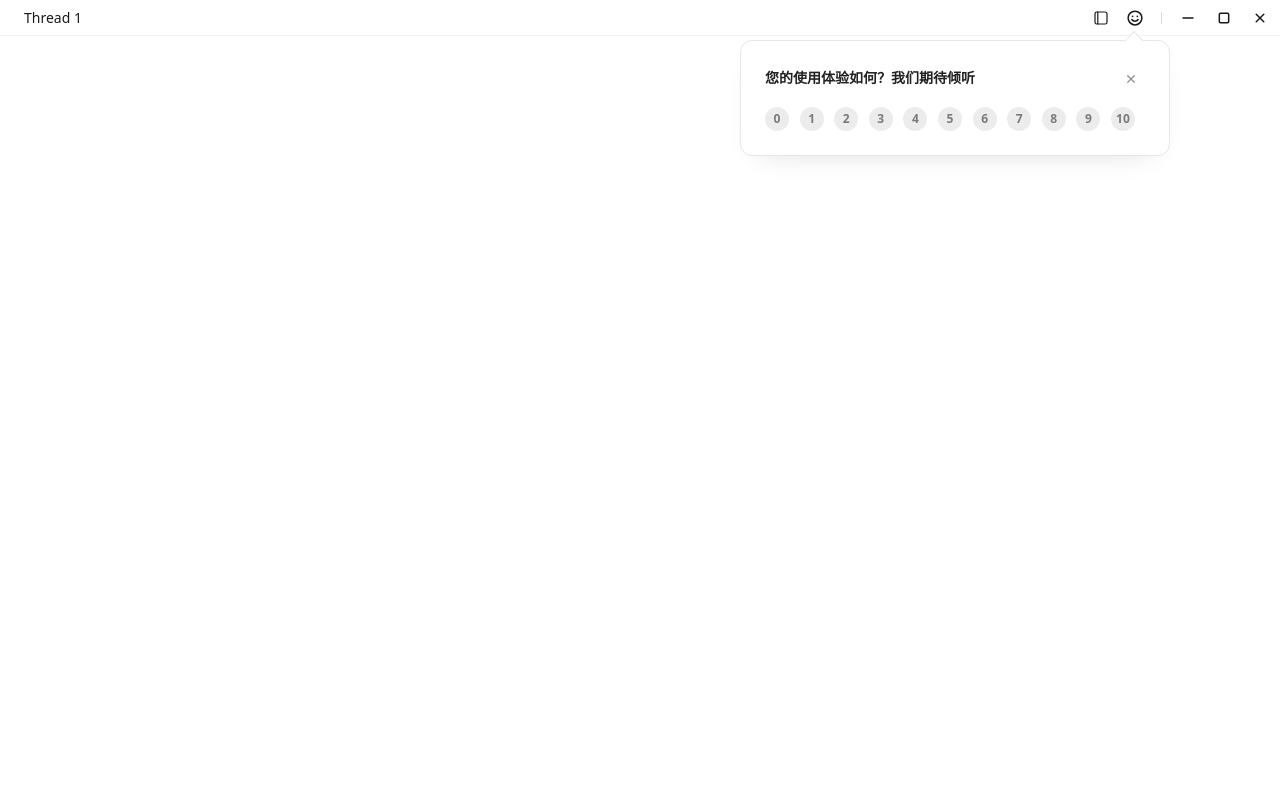
Scenario: RightContentHeader feedback popover › preserves selected score and typed feedback across route remounts
Click the button "6". click: coordinates (985, 118)
box: [973,106,997,130]
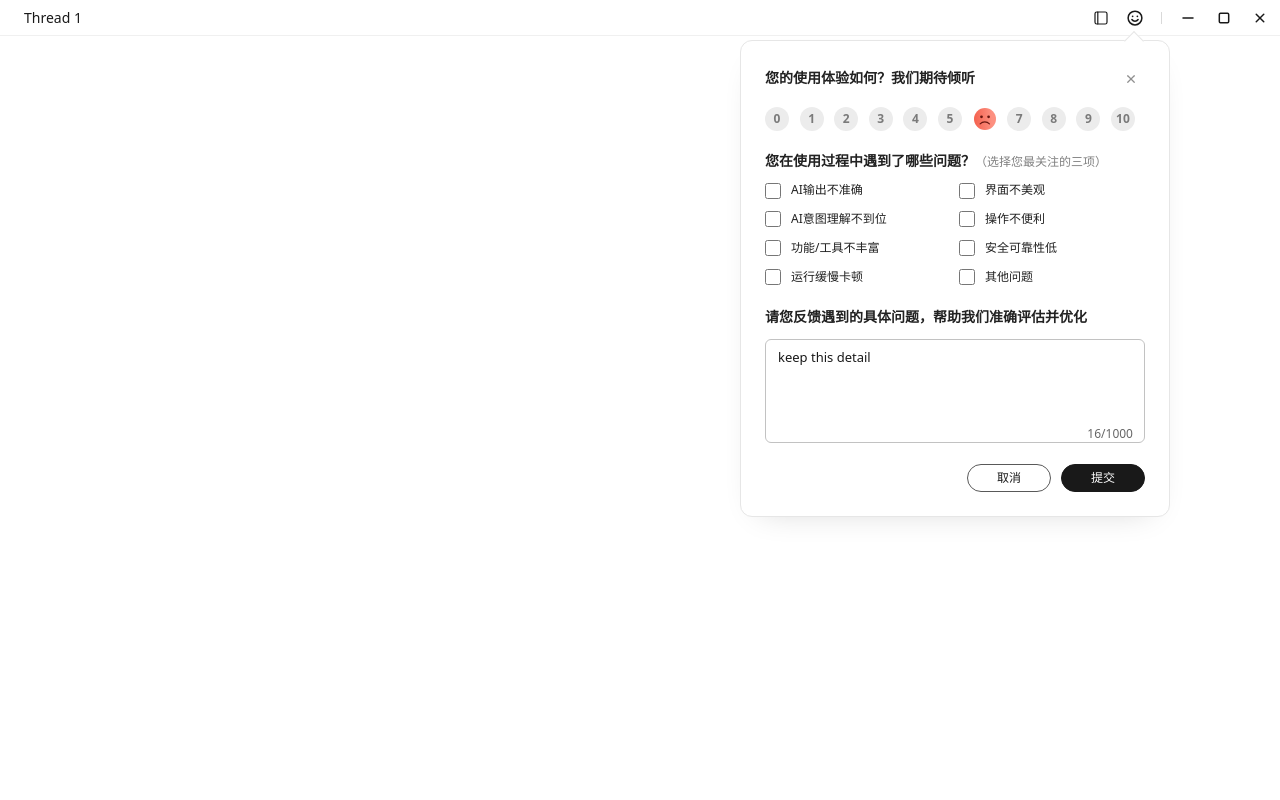
Now the text "您在使用过程中遇到了哪些问题？（选择您最关注的三项）" is shown, box [765,150,1145,170]
Now the text "请您反馈遇到的具体问题，帮助我们准确评估并优化" is shown, box [765,308,1087,326]
Now the text box holds "keep this detail", box [765,339,1145,443]
Click the checkbox labelled "其他问题". click: coordinates (967, 277)
box: [959,269,975,285]
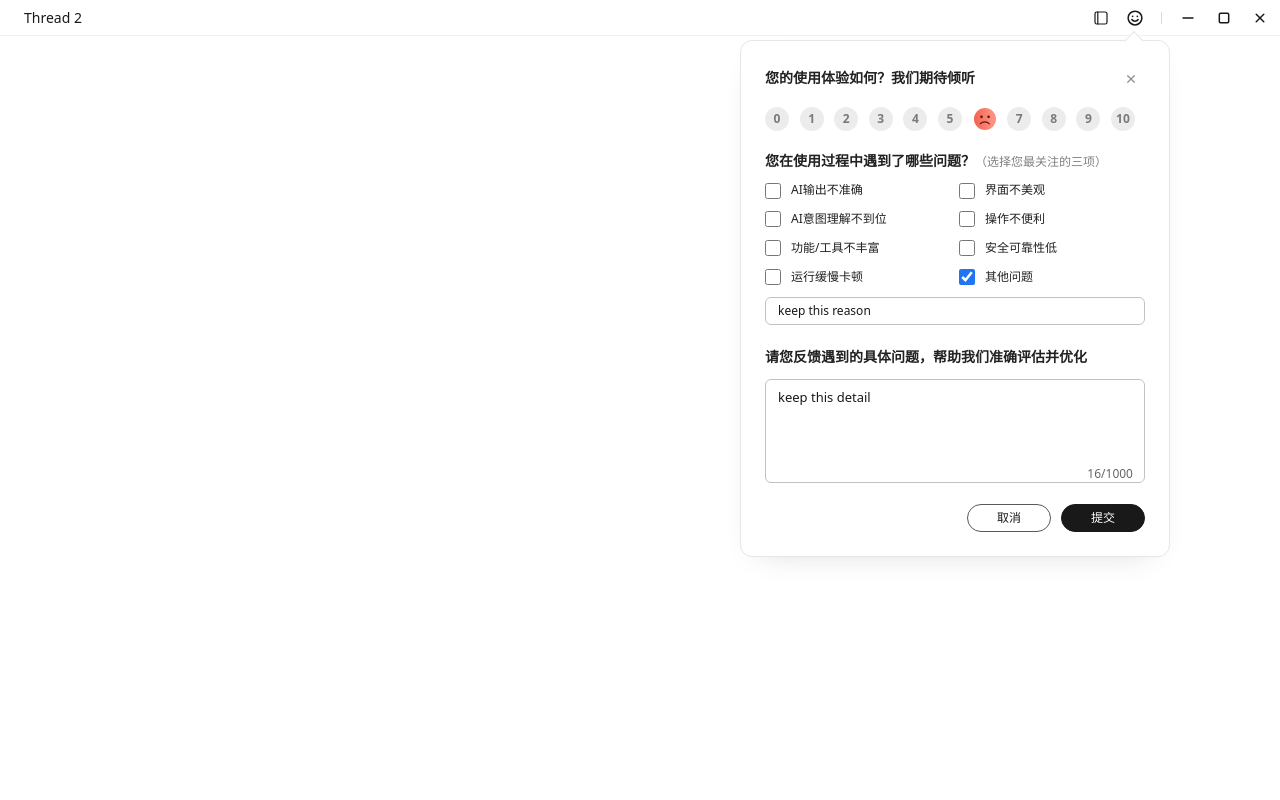
Now the text box holds "keep this detail", box [765,379,1145,483]
Now the field holds "keep this reason", box [765,298,1145,326]
